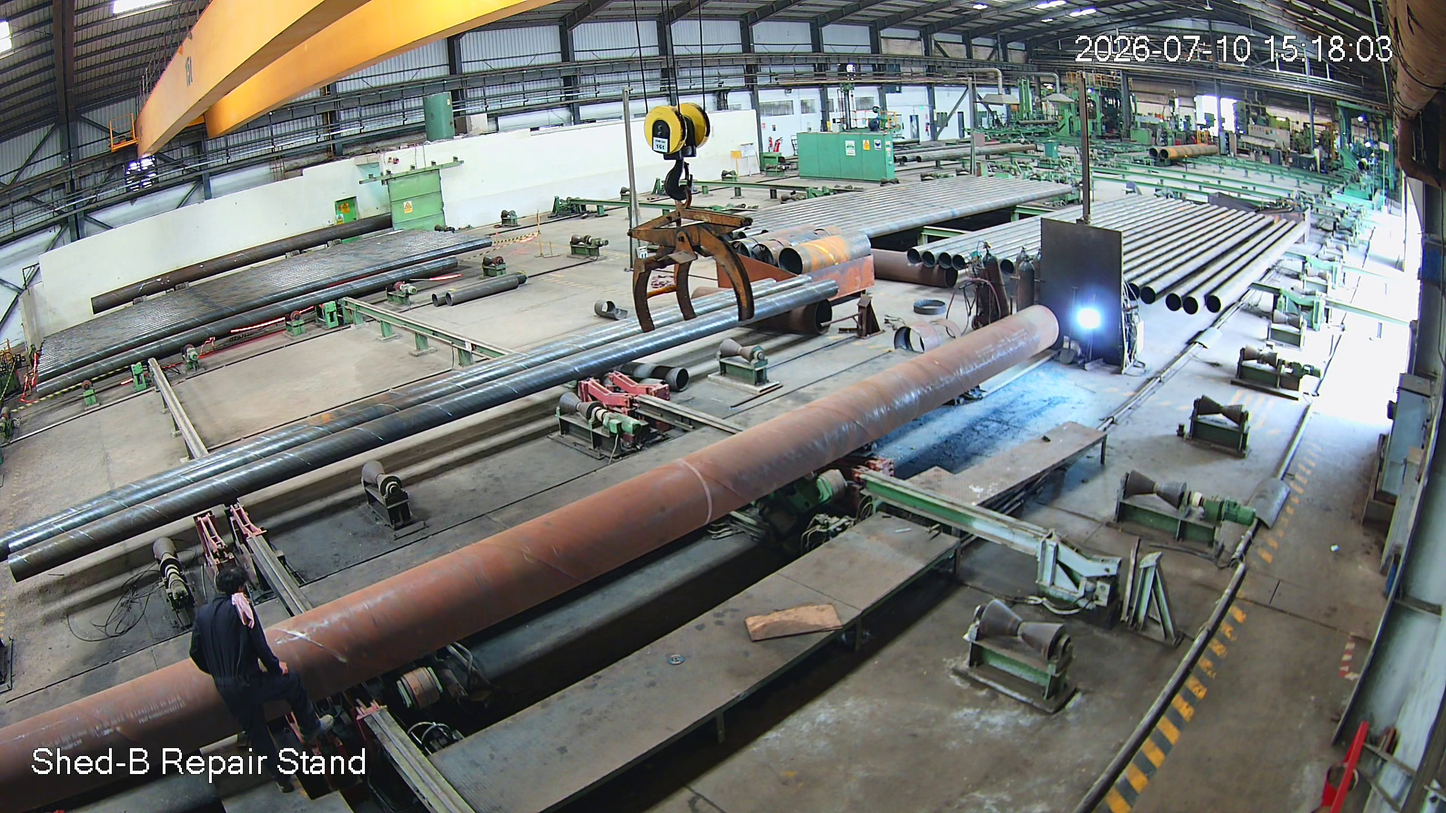Person: (195, 563, 340, 766)
